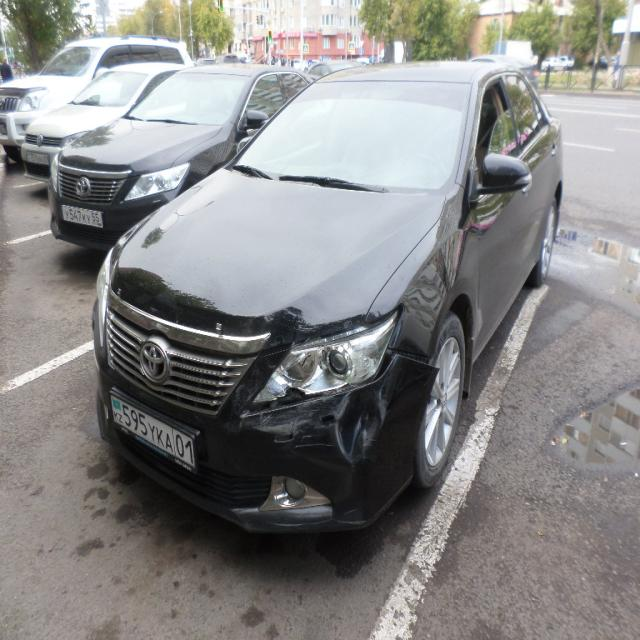Cabossage: (338, 384, 383, 476)
Rayure: (252, 400, 339, 432)
